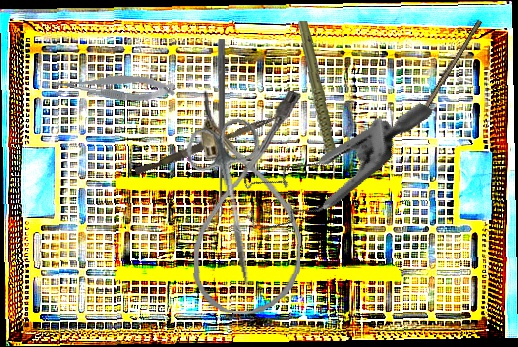Cannula: (192, 88, 306, 316)
Handpiece: (291, 20, 343, 181)
Iris Scissors: (182, 114, 287, 296)
Micro Scissor: (51, 63, 177, 109)
Pusher: (134, 107, 282, 180)
Scalpel Handle: (419, 18, 482, 116)
Speculum: (220, 43, 435, 276)
Surgical Spoon: (217, 39, 225, 217)
